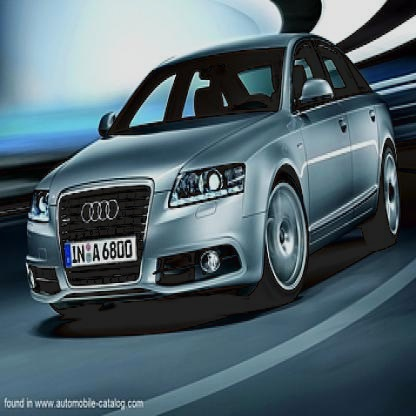Vehicle: (13, 21, 412, 334)
